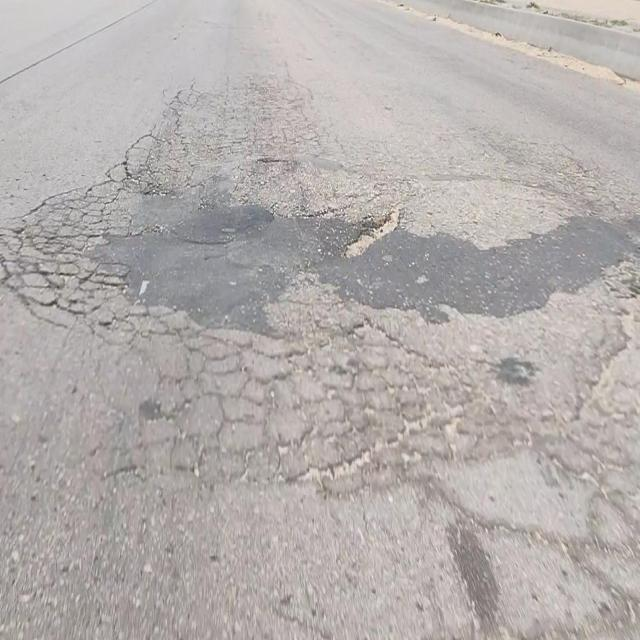Potholes: (0, 159, 171, 330), (342, 202, 404, 261)
